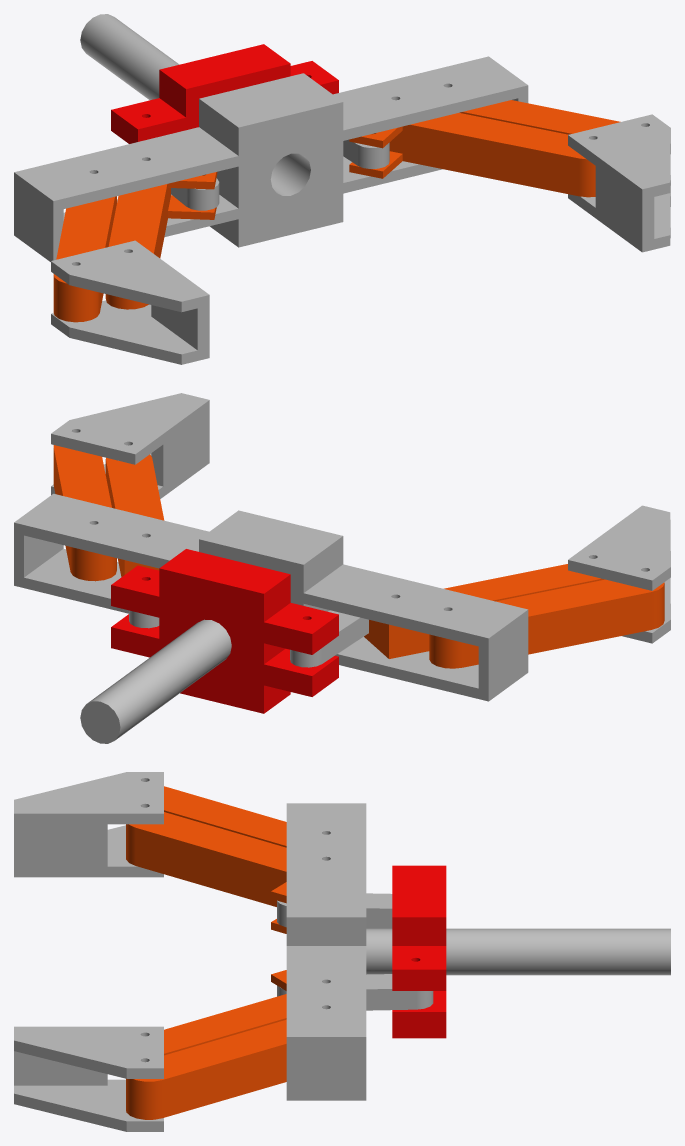
File: Parte_5xb.DAE
The picture shows the model from 3 angles, top to bottom: view 1: azimuth 30°, elevation 25°; view 2: azimuth 150°, elevation 25°; view 3: azimuth 270°, elevation 25°; orthographic projection.
Visible parts, largest first — view 1: Parte_5_002; view 2: Parte_5_002; view 3: Parte_5_002.
Part boxes in pixels (box(x1,y1,x2,y2)): Parte_5_002: box(14, 14, 670, 364); Parte_5_002: box(14, 393, 670, 743); Parte_5_002: box(14, 772, 670, 1131).
Size of the model in its own units: 0.1502 by 0.0285 by 0.1401.
